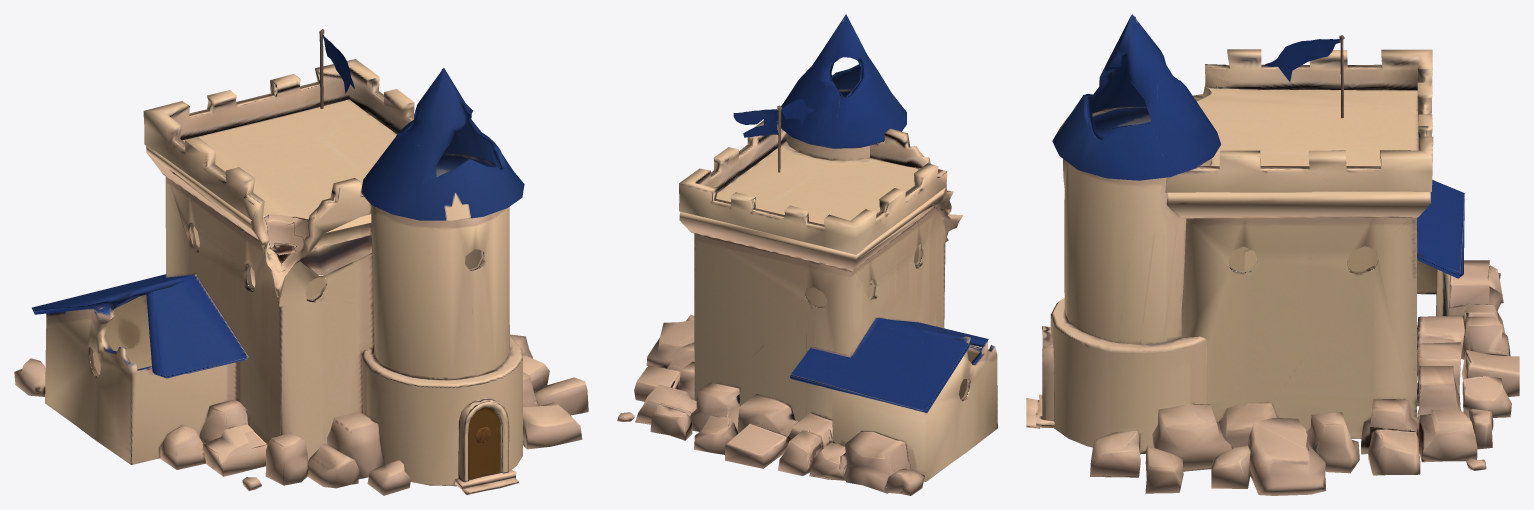
Rendered from meshy-c6-d2.glb.
3 views of the same model, side by side, from view 1: azimuth 30°, elevation 25°; view 2: azimuth 150°, elevation 25°; view 3: azimuth 270°, elevation 25° (orthographic). The views are drawn at different scales.
Size of the model in its own units: 1 by 0.9059 by 1.
1 material, 1 textured.
